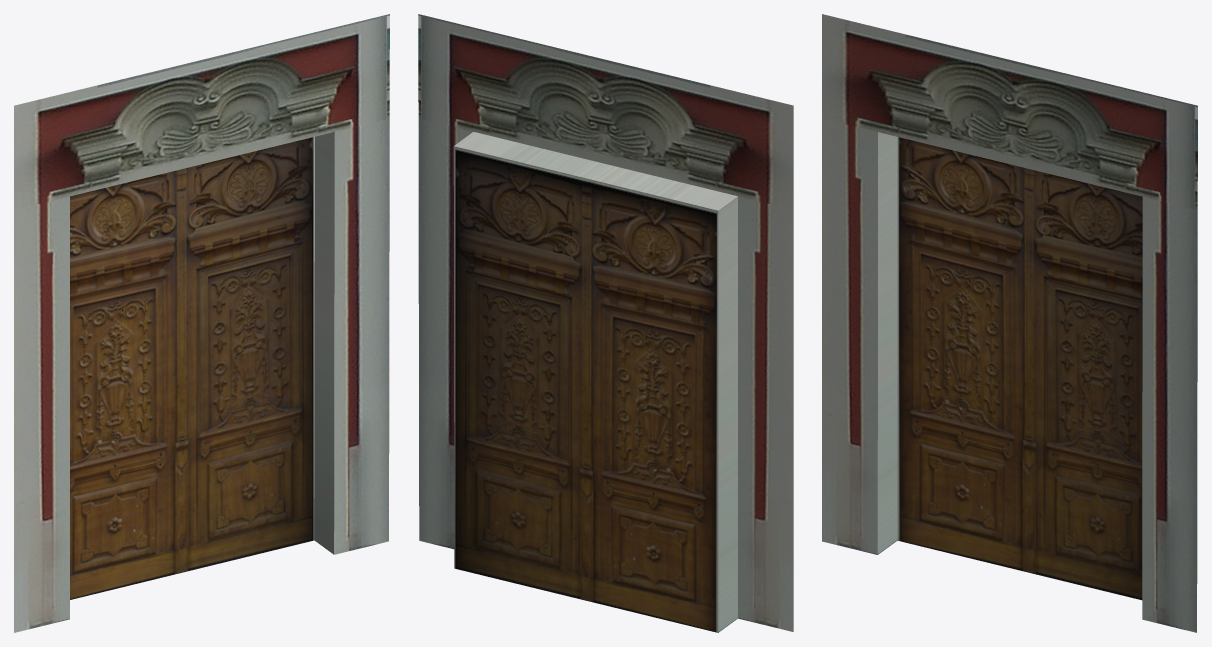
Rendered from tuer.obj.
3 views of the same model, side by side, from view 1: azimuth 30°, elevation 25°; view 2: azimuth 150°, elevation 25°; view 3: azimuth 330°, elevation 25° (orthographic).
Visible parts, largest first — view 1: polySurface48 pCube11; view 2: polySurface48 pCube11; view 3: polySurface48 pCube11.
Part boxes in pixels (<box>): polySurface48 pCube11: <box>14,14,389,632</box>; polySurface48 pCube11: <box>418,14,793,632</box>; polySurface48 pCube11: <box>822,14,1197,632</box>.
Bounding box in the file's own units: 0.3729 × 0.5 × 0.0338.
1 material, 1 textured.
